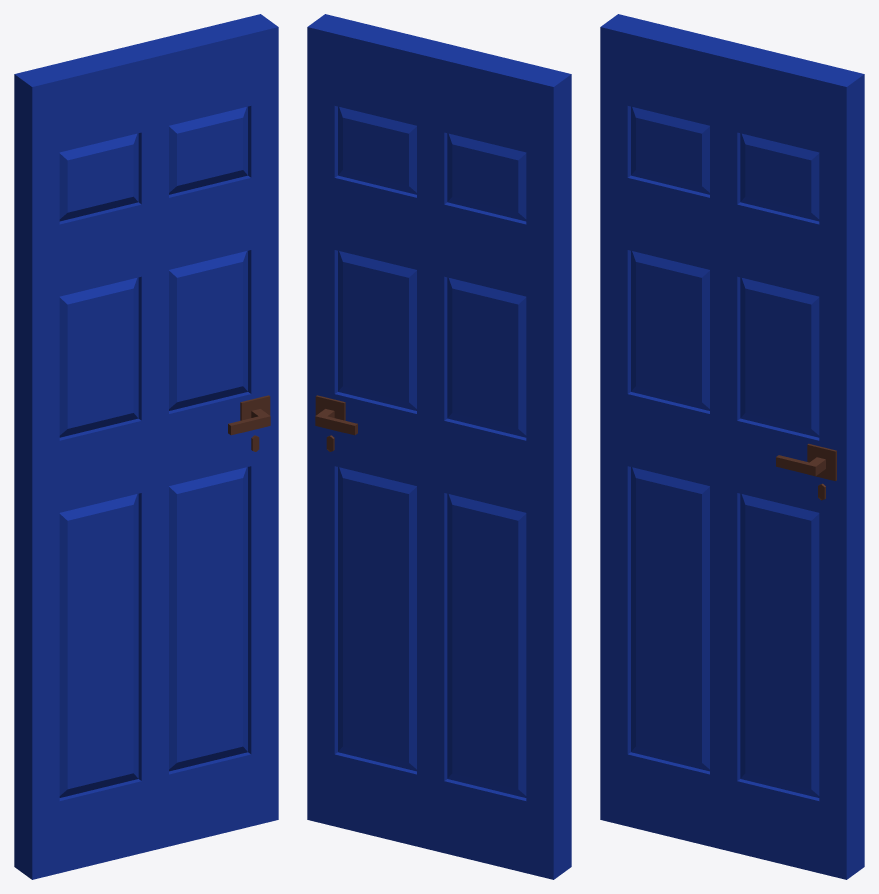
The model's file is PortaPivoEsquerdo.fbx.
3 renders of one model, left to right at view 1: azimuth 30°, elevation 25°; view 2: azimuth 150°, elevation 25°; view 3: azimuth 330°, elevation 25°, orthographic.
Visible parts, largest first — view 1: porta, macaneta; view 2: porta, macaneta; view 3: porta, macaneta.
Part boxes in pixels (box(x1,y1,x2,y2)): porta: box(14, 14, 278, 879); macaneta: box(228, 395, 270, 435); porta: box(307, 14, 571, 879); macaneta: box(315, 395, 357, 435); porta: box(600, 14, 864, 879); macaneta: box(776, 443, 836, 481).
Size of the model in its own units: 80 by 246 by 23.05.
